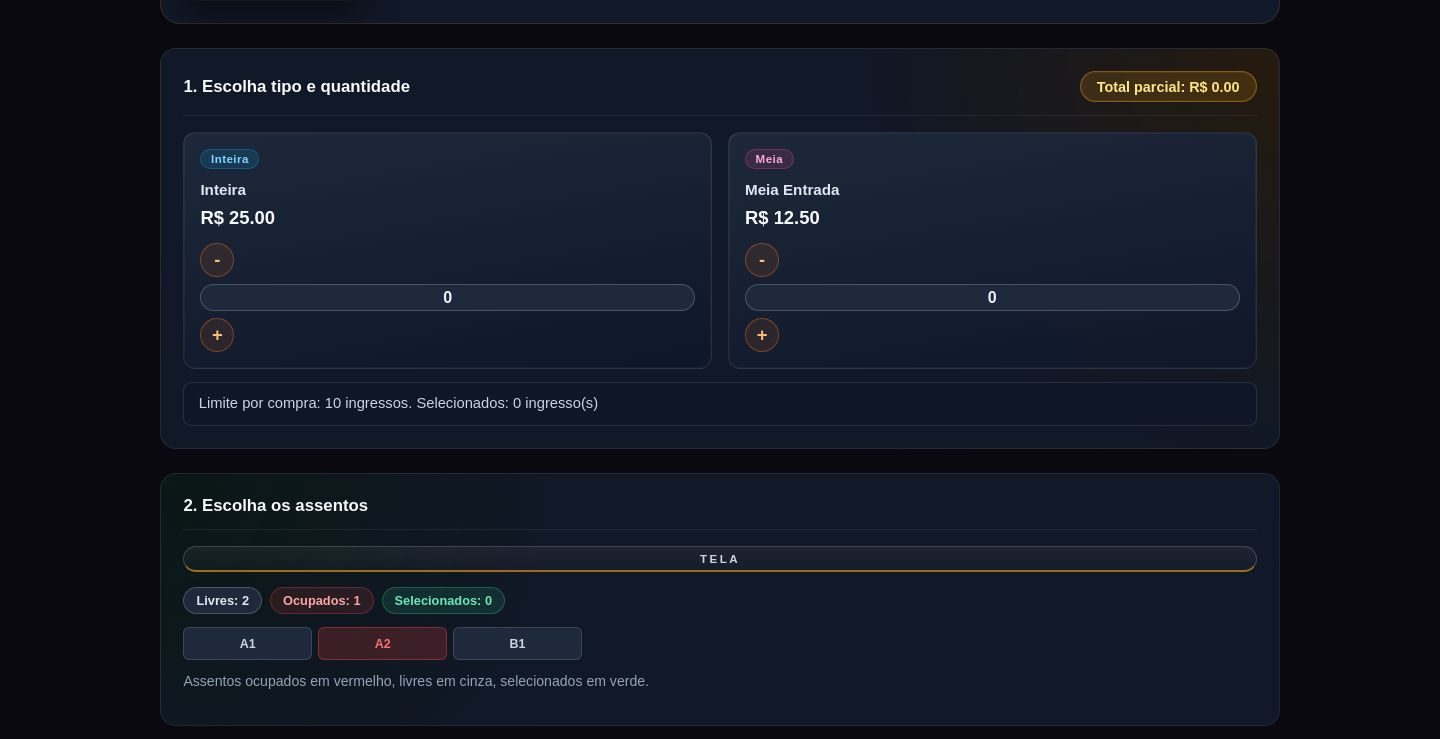
Test case: na grade, distingue assentos da mesma posição em fileiras diferentes e mantém ocupação e resumo
(page scrolled)
Expected: the button "A1" is shown, [183, 628, 312, 660]
Expected: the buttons read "A1", "A2", "B1", in this order, [183, 628, 312, 660]; [318, 628, 447, 660]; [453, 628, 582, 660]
Click the button "+" below "25.00" at (217, 335), box [200, 318, 234, 352]
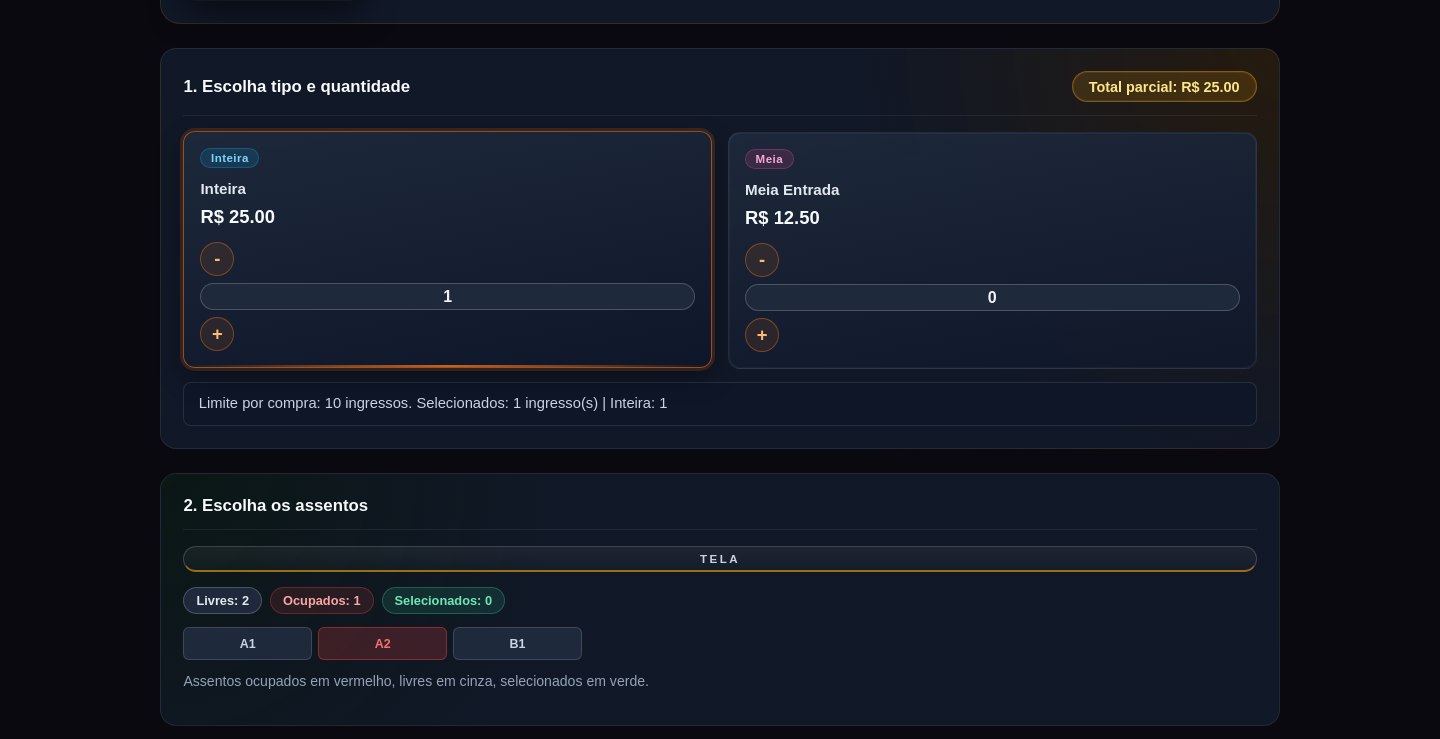
Click the button "B1" at (518, 644), box [453, 628, 582, 660]
(page scrolled)
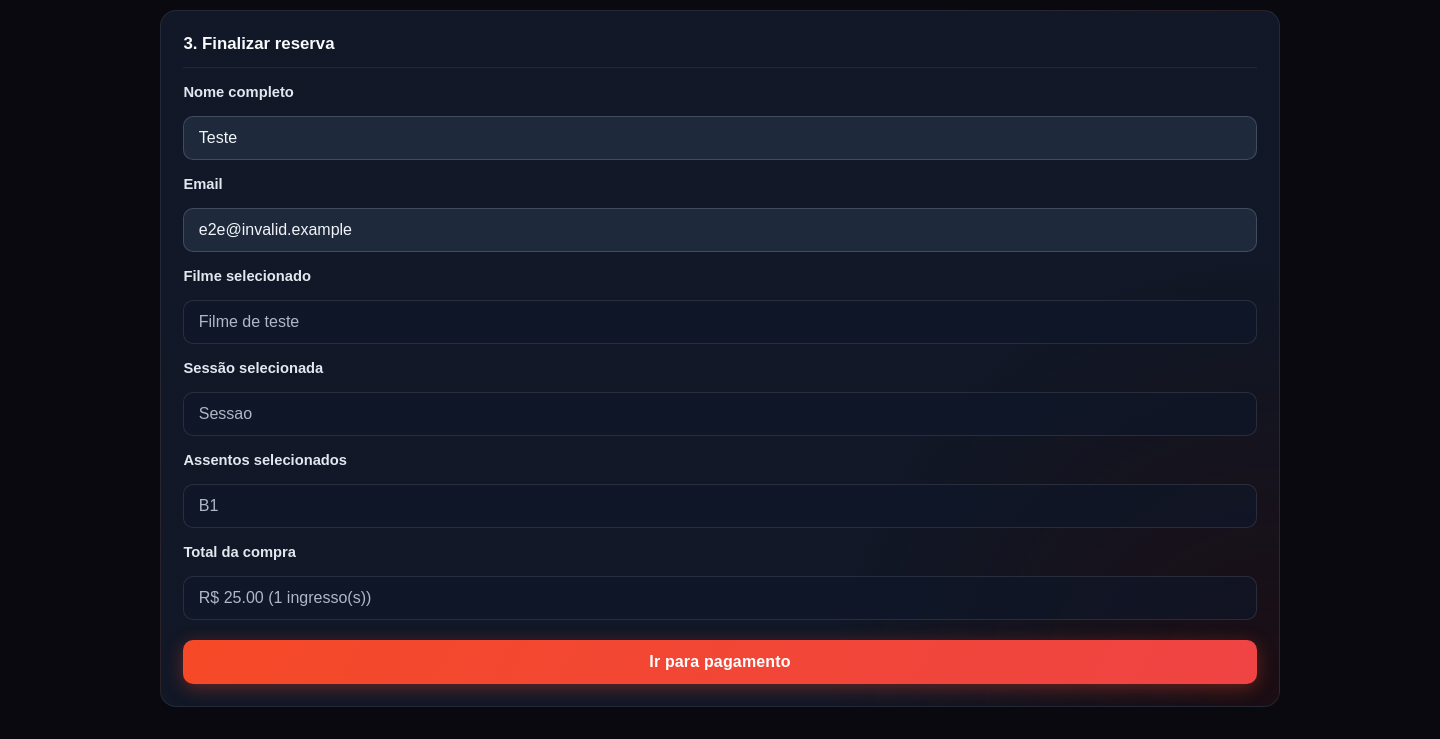
Expected: the 5th field showing "B1" is shown, [183, 484, 1257, 528]
